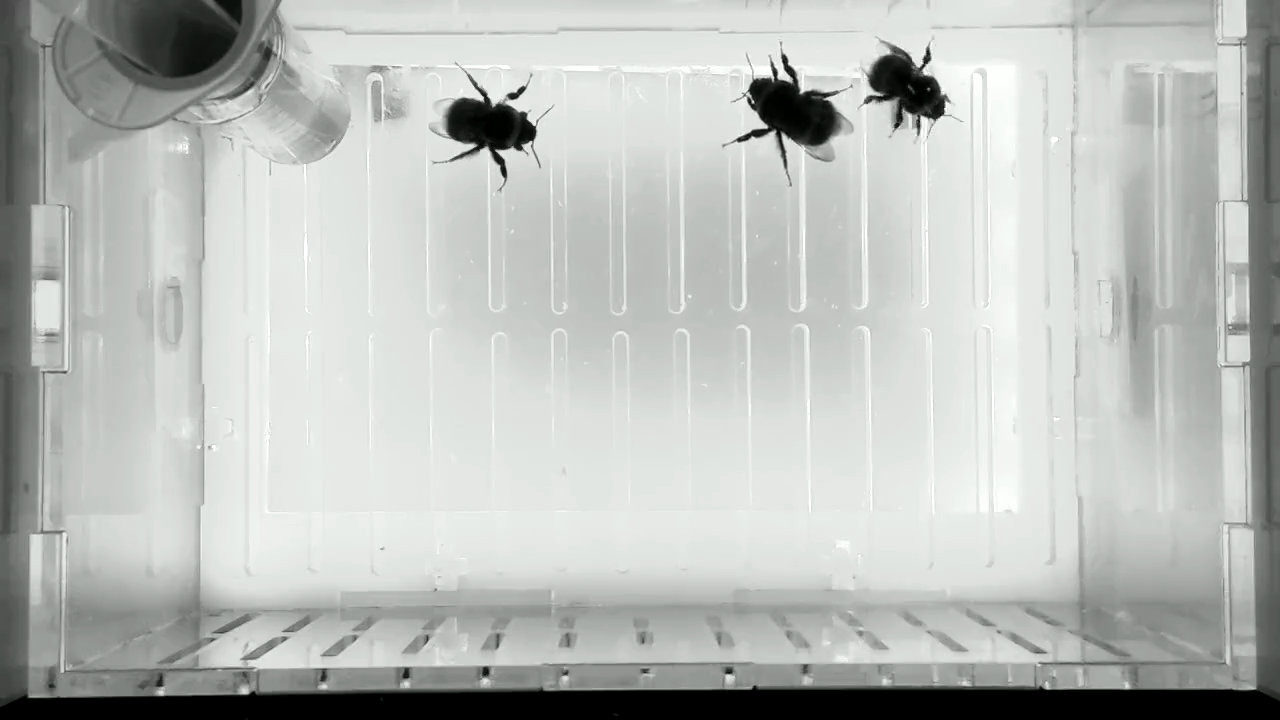bee_alive: (719, 39, 859, 190), (422, 56, 557, 195), (854, 31, 969, 147)
feeder: (197, 14, 355, 168)
